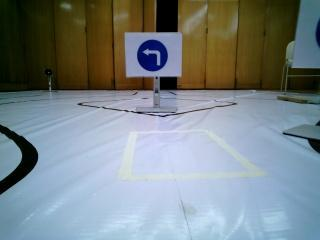left: (131, 36, 170, 75)
